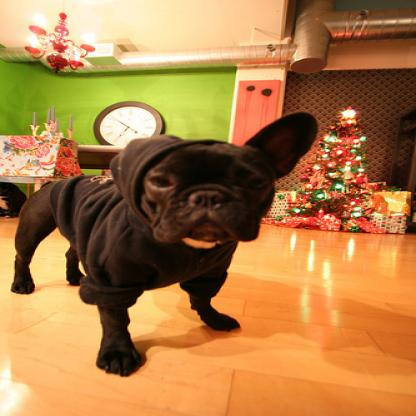French_bulldog: (6, 109, 320, 375)
